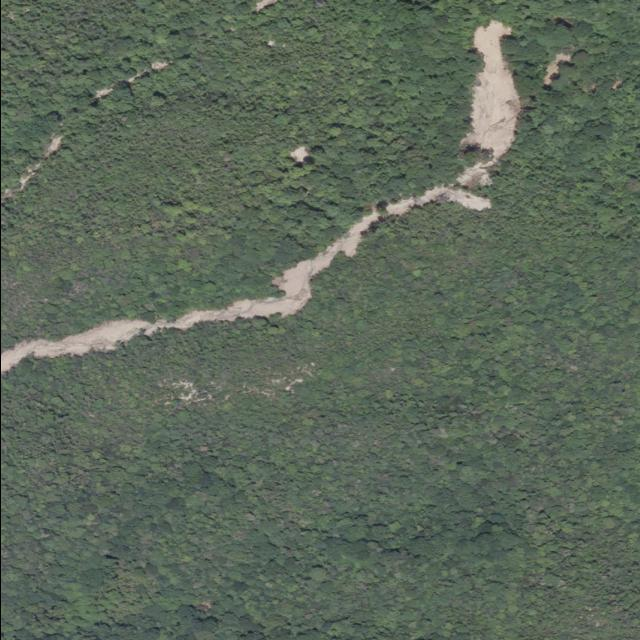landslide: (0, 209, 380, 372), (384, 20, 521, 215)
